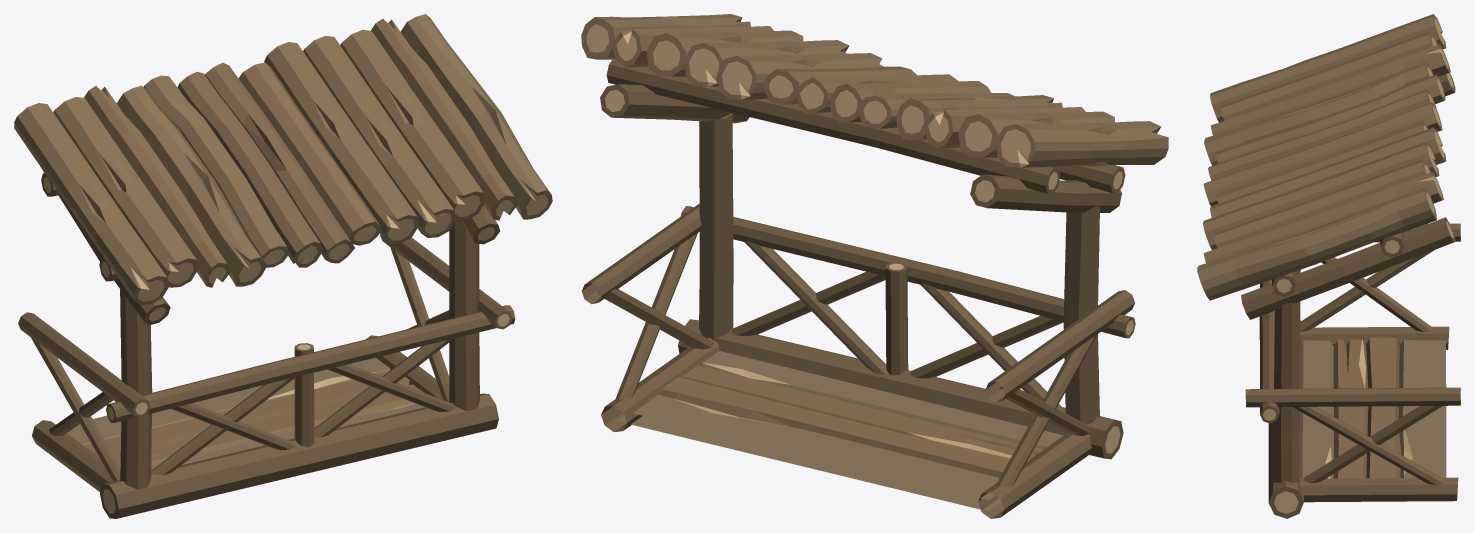
File: rpgpp_st_balcony_01_4m_roof_a.fbx
3 views of the same model, side by side, from view 1: azimuth 30°, elevation 25°; view 2: azimuth 150°, elevation 25°; view 3: azimuth 270°, elevation 25° (orthographic). The views are drawn at different scales.
Visible parts, largest first — view 1: rpgpp_st_balcony_01_4m_roof_a; view 2: rpgpp_st_balcony_01_4m_roof_a; view 3: rpgpp_st_balcony_01_4m_roof_a.
Part boxes in pixels (left/top/right/bottom): rpgpp_st_balcony_01_4m_roof_a: left=14, top=14, right=552, bottom=518; rpgpp_st_balcony_01_4m_roof_a: left=581, top=14, right=1168, bottom=518; rpgpp_st_balcony_01_4m_roof_a: left=1197, top=14, right=1460, bottom=518.
Bounding box in the file's own units: 5.02 × 4.12 × 2.95.
